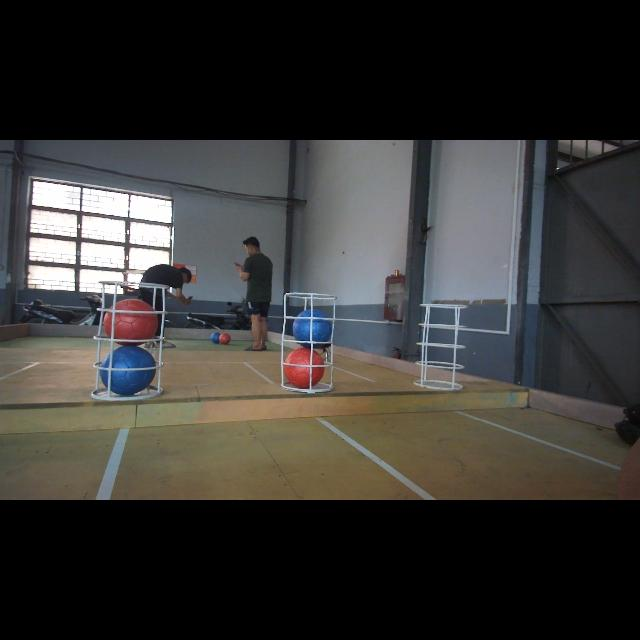B: (100, 346, 156, 394), (291, 306, 333, 348)
R: (103, 299, 159, 347), (285, 348, 323, 390)
